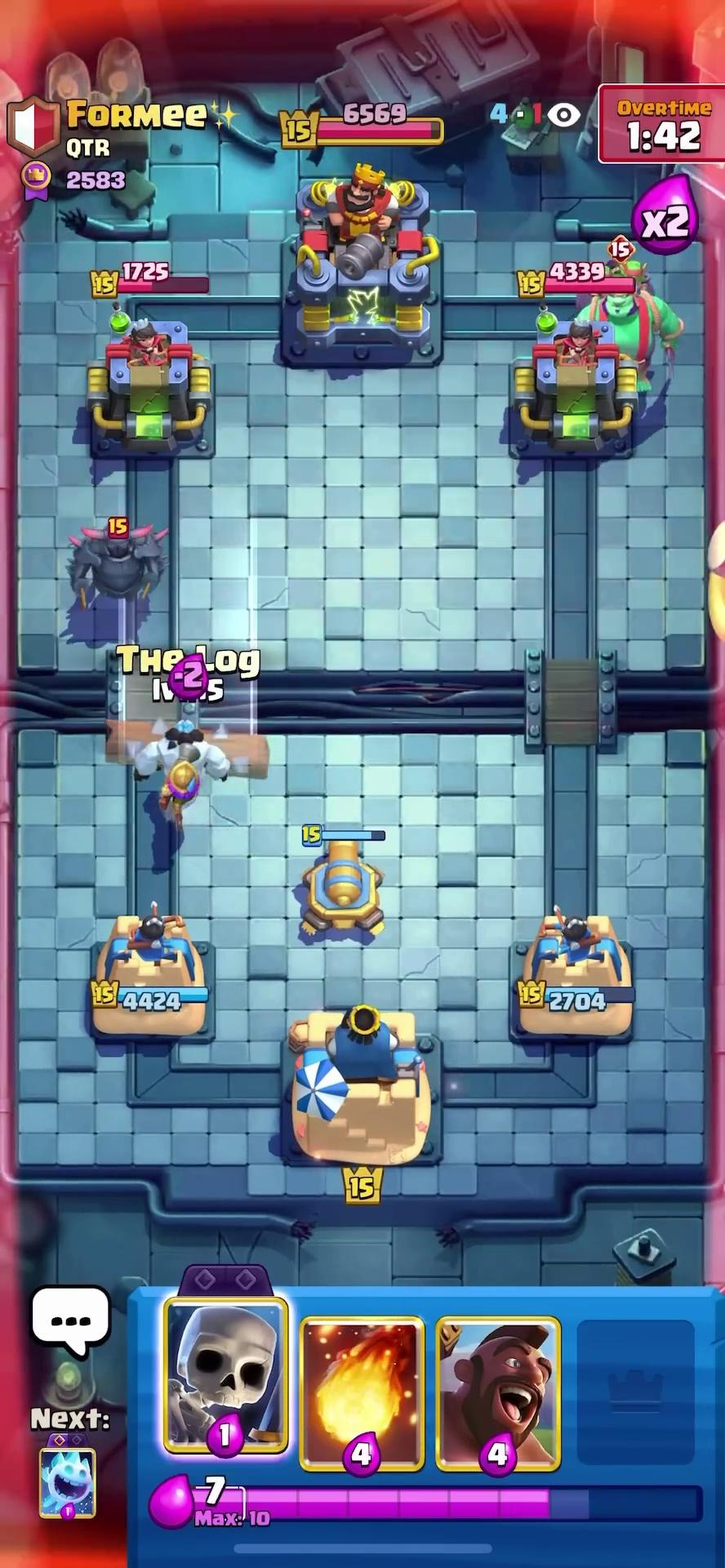cannon: (294, 827, 386, 939)
ice_golem: (131, 710, 237, 790)
musketeer: (155, 753, 202, 831)
